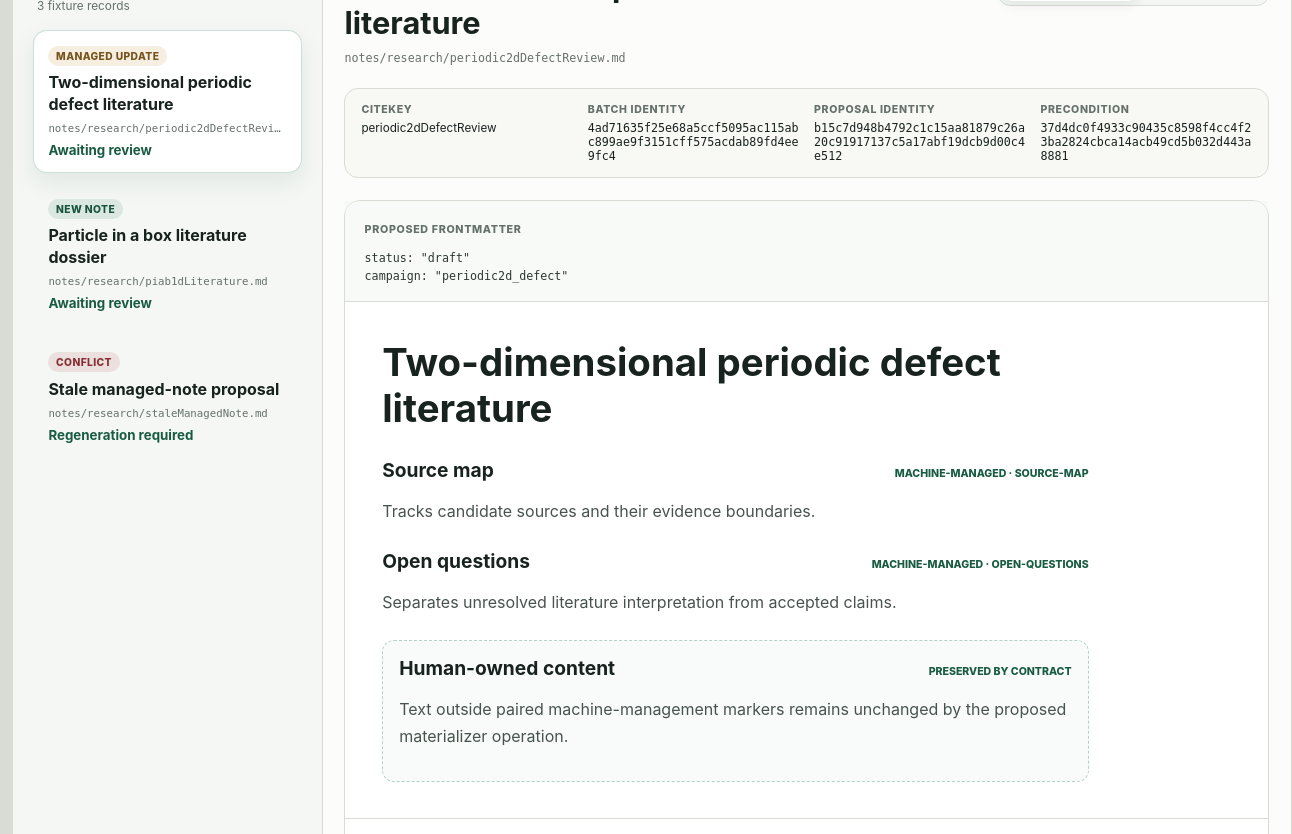
Test case: prevents a conflicted fixture from being marked ready
The width and height of the screenshot is (1292, 834).
(page scrolled)
Click the button "Stale managed-note proposal": (167, 397) [33,337,302,458]
(page scrolled)
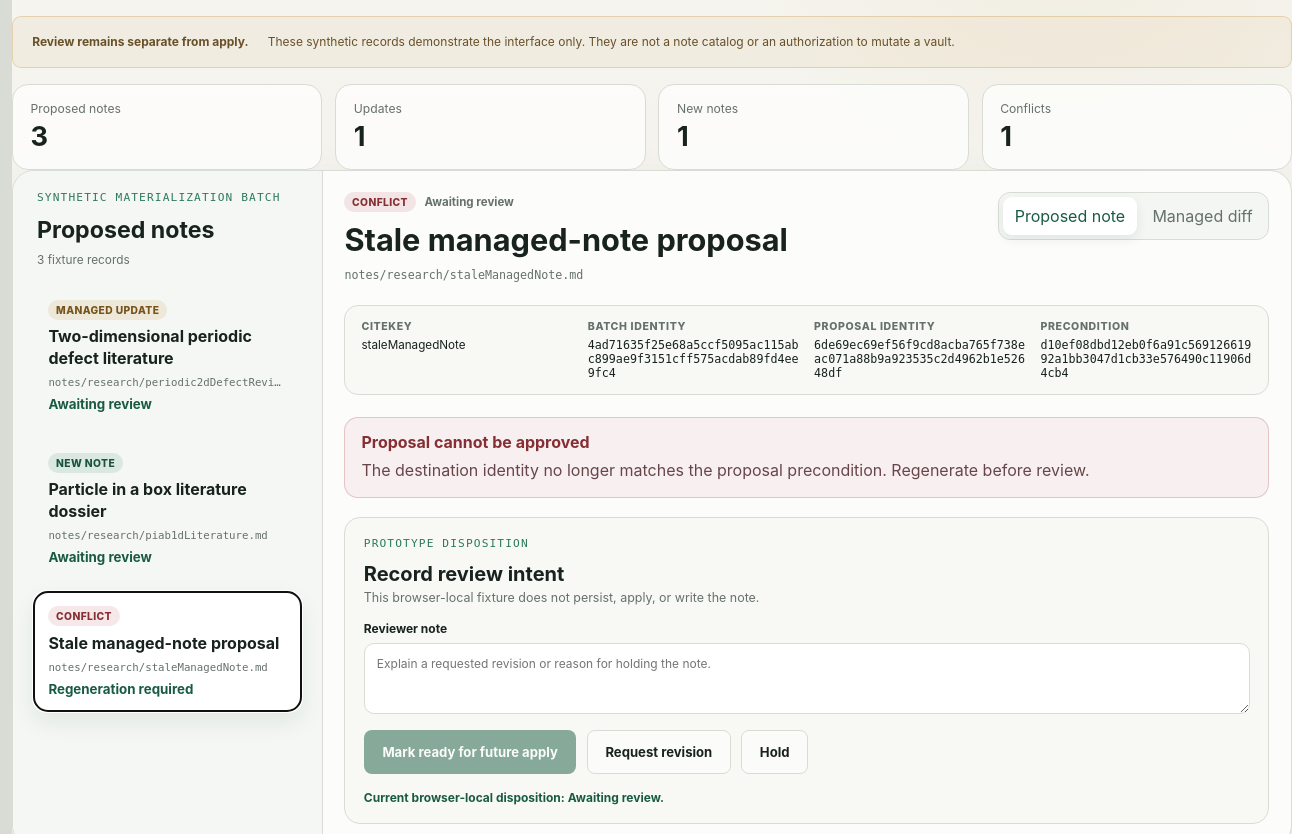
Expected: the message shows "destination identity no longer matches", [361,460,1090,480]
Expected: the button "Mark ready for future apply" is disabled, [364,730,576,774]
